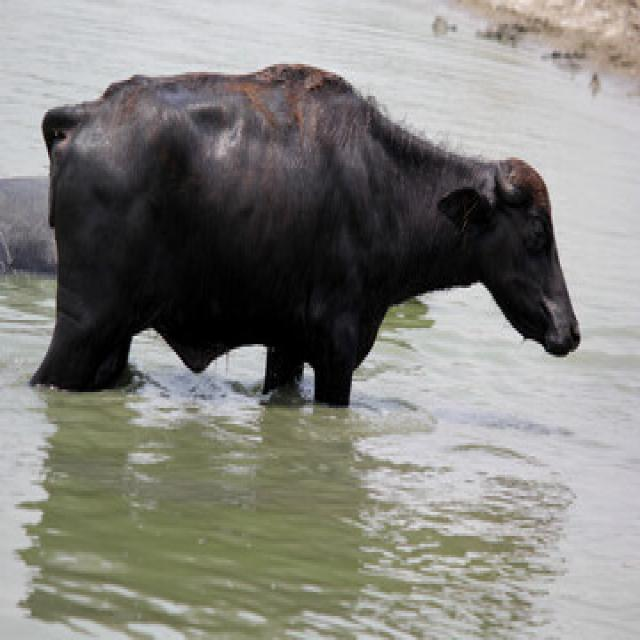Buffalo: (25, 56, 583, 411)
